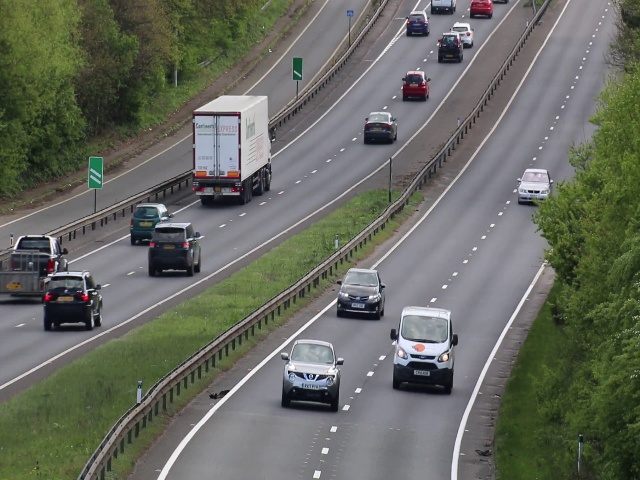car: (192, 90, 278, 207), (389, 303, 460, 394), (280, 334, 339, 413), (4, 234, 72, 301), (42, 270, 102, 338), (147, 219, 205, 279), (335, 264, 385, 322), (126, 204, 173, 241), (516, 164, 552, 208), (364, 108, 397, 146), (400, 69, 430, 102), (404, 8, 432, 36), (439, 34, 463, 65), (448, 20, 474, 47)
